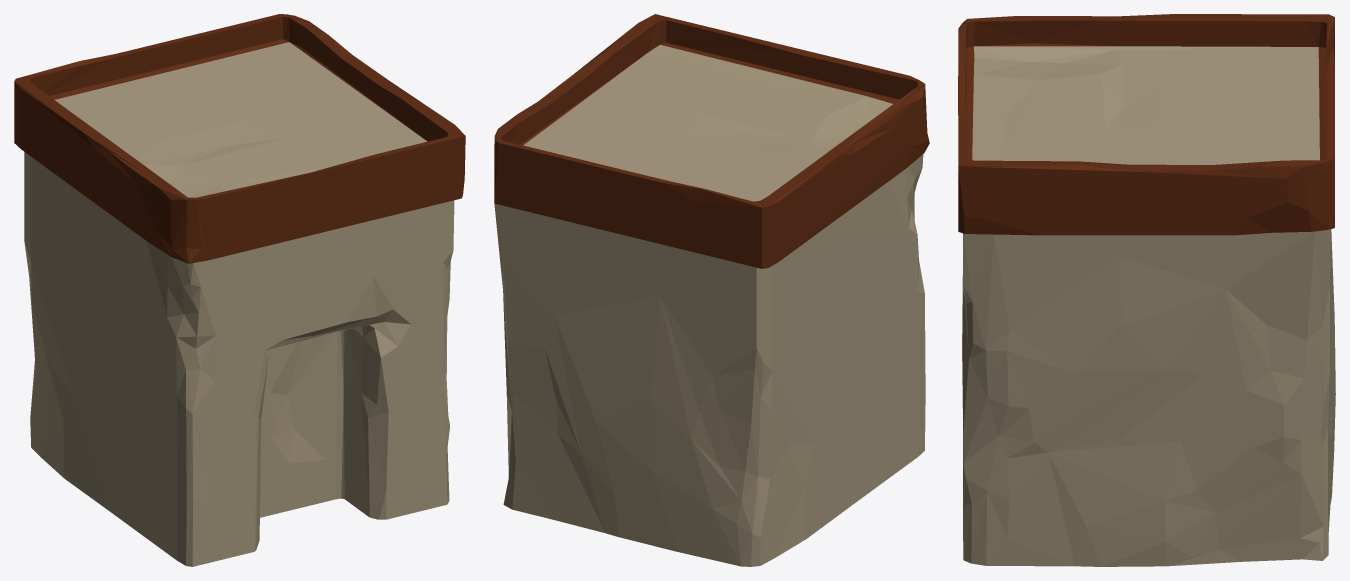
File: SM_building_template_04.fbx
3 views of the same model, side by side, from view 1: azimuth 30°, elevation 25°; view 2: azimuth 150°, elevation 25°; view 3: azimuth 270°, elevation 25° (orthographic). The views are drawn at different scales.
Parts seen in each view (by area): view 1: Object189; view 2: Object189; view 3: Object189.
Boxes of the visible parts, x1=… form: Object189: x1=14, y1=14, x2=465, y2=566; Object189: x1=494, y1=14, x2=929, y2=566; Object189: x1=958, y1=14, x2=1335, y2=566.
Bounding box in the file's own units: 117 × 121 × 143.
